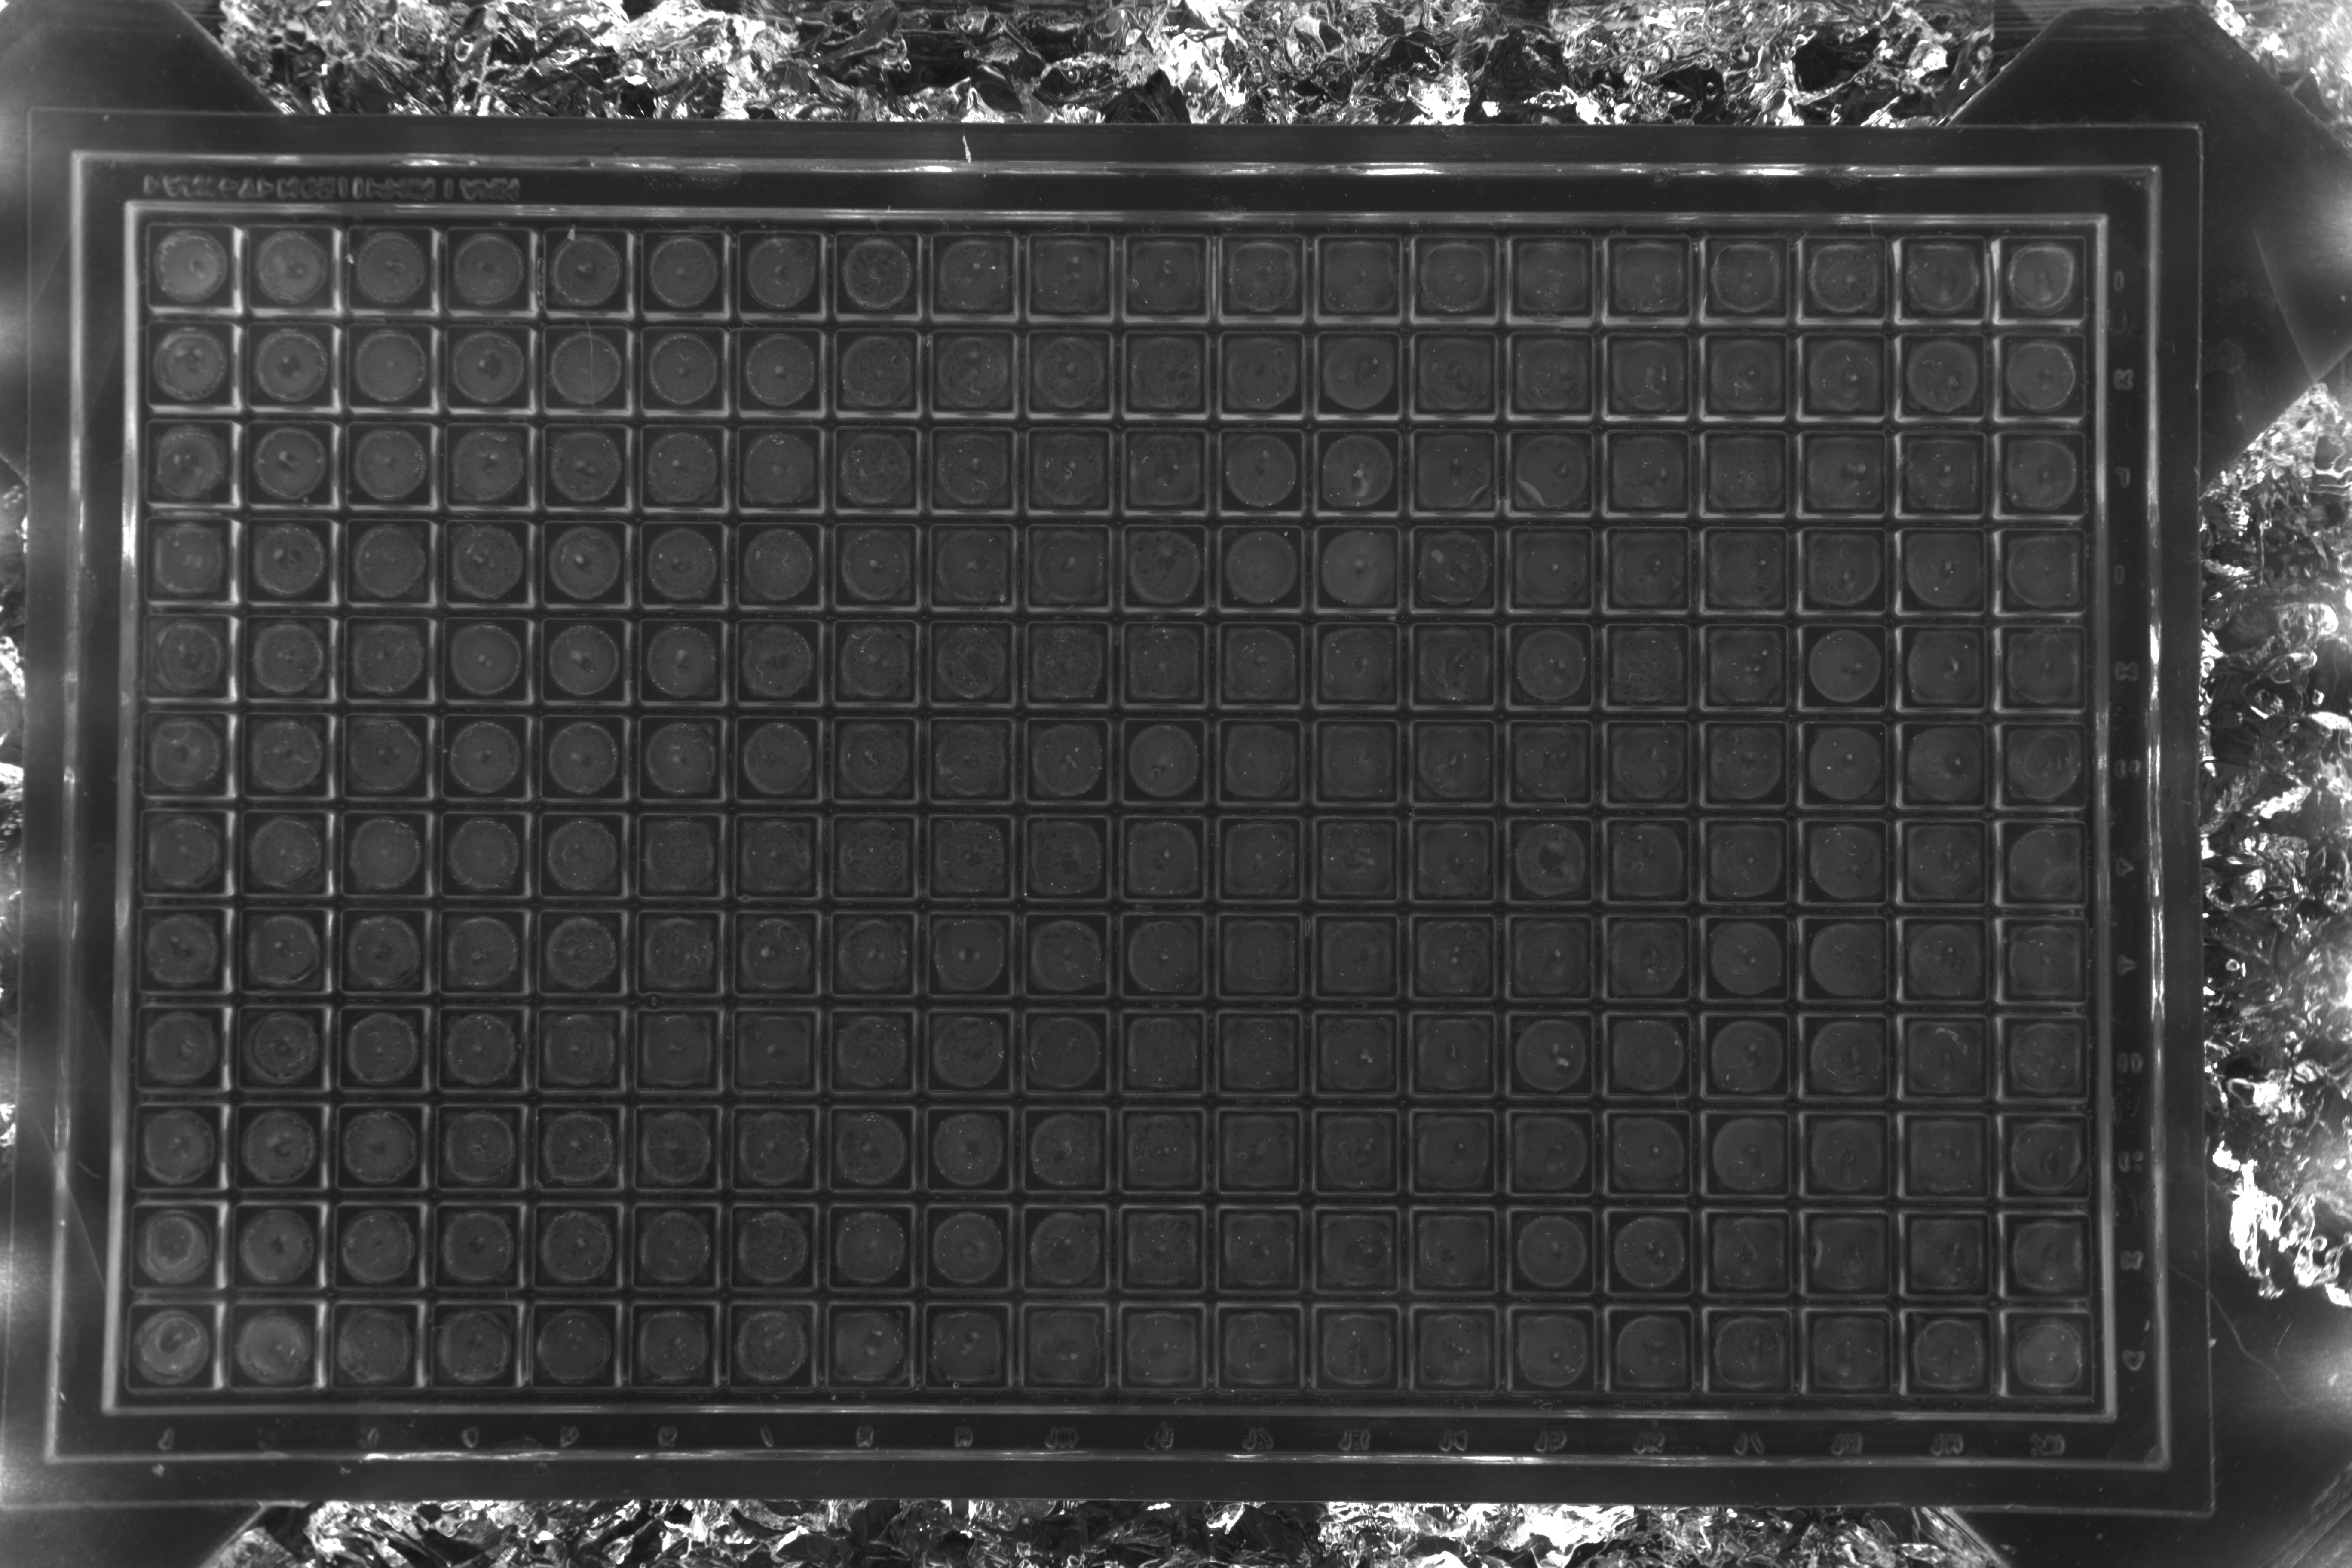WM_well: (497, 266, 586, 353), (789, 558, 878, 646), (205, 457, 292, 544), (303, 264, 390, 352), (390, 1242, 478, 1330), (401, 555, 488, 642), (688, 1141, 775, 1228), (885, 947, 973, 1034), (887, 366, 975, 453), (1080, 367, 1167, 455), (1370, 850, 1458, 938), (1465, 269, 1552, 357), (1466, 656, 1554, 744), (1466, 754, 1554, 842), (1470, 1342, 1557, 1430), (1564, 850, 1652, 938), (1566, 1048, 1654, 1136), (1659, 269, 1746, 357), (1662, 754, 1750, 842), (1858, 462, 1946, 549), (1858, 560, 1946, 647), (1962, 1052, 2049, 1139), (1965, 1351, 2053, 1438), (2056, 464, 2144, 551)
